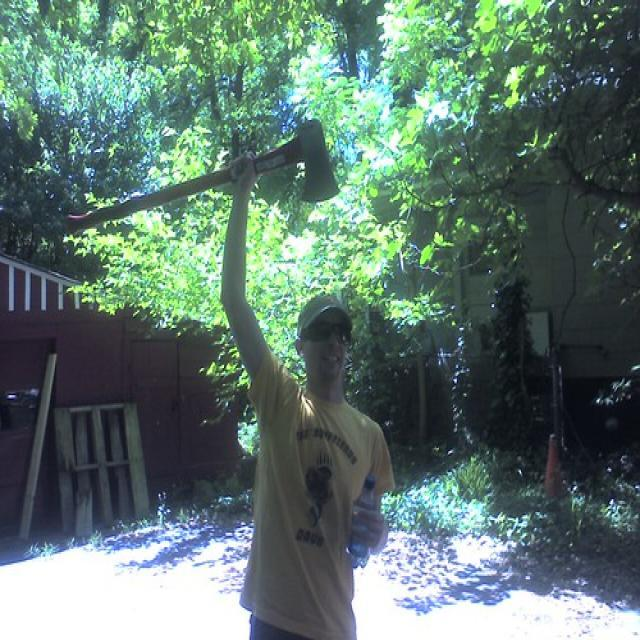Axe: (65, 159, 240, 232), (251, 119, 339, 202)
